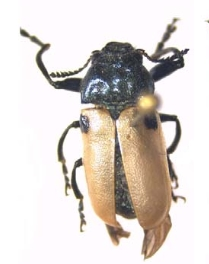Labidostomis_asiatica: (14, 9, 200, 261)
